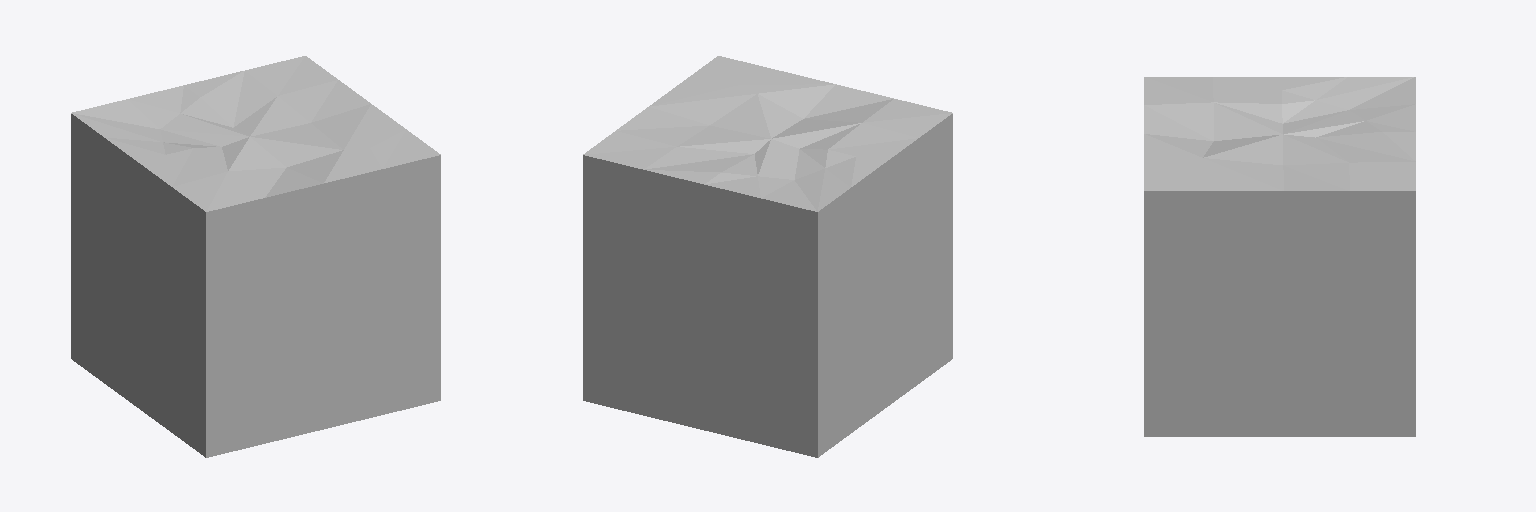
The model's file is field.1642e806.obj.
3 views of the same model, side by side, from view 1: azimuth 30°, elevation 25°; view 2: azimuth 150°, elevation 25°; view 3: azimuth 270°, elevation 25° (orthographic).
Visible parts, largest first — view 1: Field_Cube; view 2: Field_Cube; view 3: Field_Cube.
Part boxes in pixels (x1,y1,x2,y2): Field_Cube: (71,56,440,457); Field_Cube: (583,56,952,457); Field_Cube: (1144,77,1415,436).
Size of the model in its own units: 0.5 by 0.5035 by 0.5.